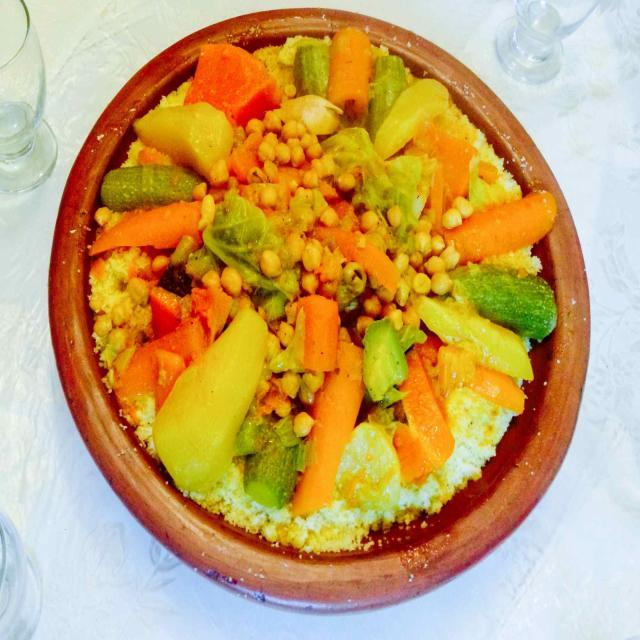Couscous: (94, 34, 554, 554)
